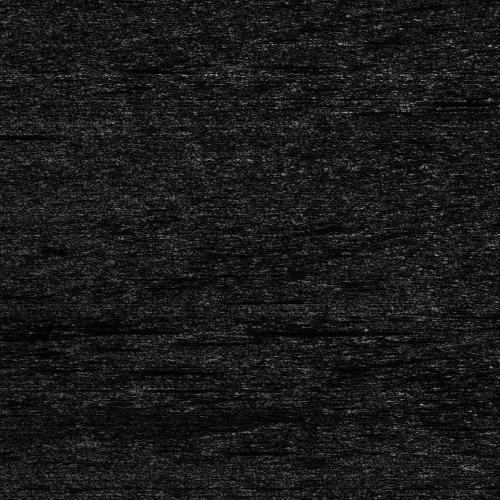object: (180, 323, 263, 336)
shadow: (222, 323, 383, 336), (0, 131, 41, 138)
